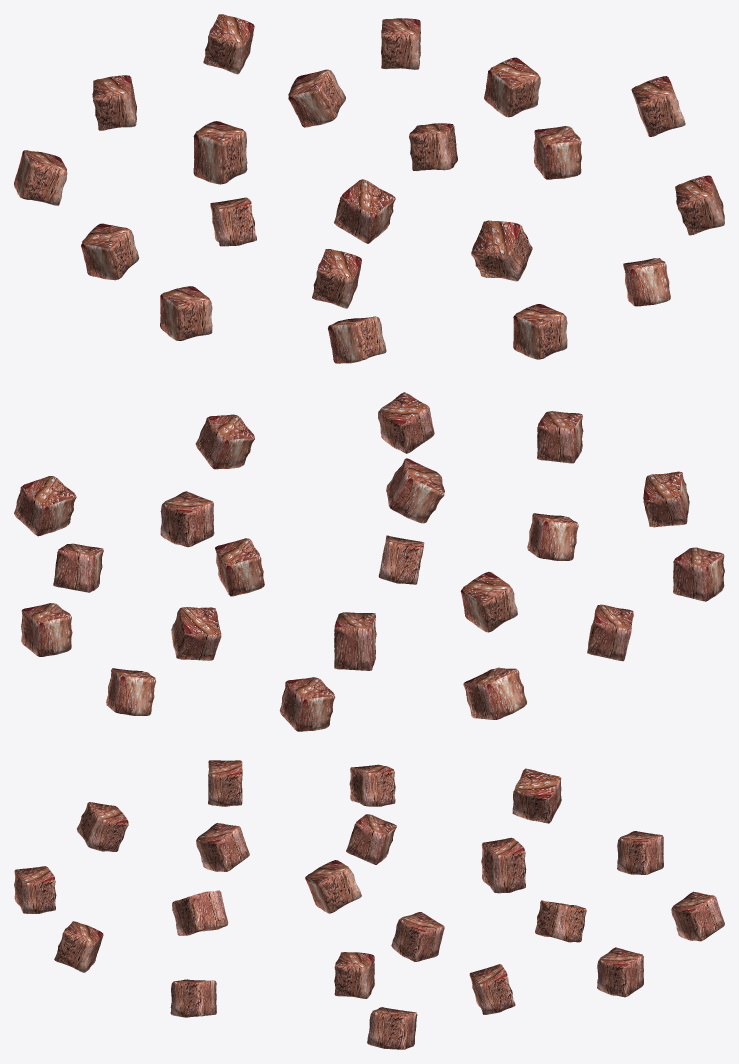
File: meat_topping.fbx
3 views of the same model, one above another, from view 1: azimuth 30°, elevation 25°; view 2: azimuth 150°, elevation 25°; view 3: azimuth 270°, elevation 25° (orthographic). The views are drawn at different scales.
Visible parts, largest first — view 1: meat.005, meat.006, meat.016, meat.014, meat.010, meat.018, meat.001, meat.019, meat.013, meat.008, meat.002, meat.012 (+8 smaller); view 2: meat.009, meat.006, meat.013, meat.007, meat.004, meat.008, meat.011, meat, meat.005, meat.001, meat.019, meat.015 (+8 smaller); view 3: meat.005, meat.013, meat.016, meat.017, meat.003, meat.012, meat.006, meat.015, meat.002, meat, meat.009, meat.018 (+8 smaller).
Part boxes in pixels (x1,y1,x2,y2): meat.005: (193, 121, 247, 184); meat.006: (471, 220, 532, 281); meat.016: (334, 179, 395, 243); meat.014: (484, 57, 540, 117); meat.010: (81, 223, 139, 280); meat.018: (513, 304, 567, 359); meat.001: (160, 286, 212, 340); meat.019: (288, 69, 345, 127); meat.013: (14, 150, 67, 205); meat.008: (533, 126, 581, 179); meat.002: (328, 316, 386, 363); meat.012: (203, 14, 254, 74); meat.009: (14, 476, 76, 536); meat.006: (386, 458, 444, 523); meat.013: (463, 667, 527, 719); meat.007: (195, 414, 254, 469); meat.004: (378, 392, 434, 453); meat.008: (160, 491, 214, 547); meat.011: (460, 572, 517, 632); meat: (279, 677, 335, 731); meat.005: (334, 612, 376, 670); meat.001: (673, 547, 724, 601); meat.019: (171, 607, 221, 660); meat.015: (21, 603, 72, 656); meat.005: (481, 837, 526, 893); meat.013: (512, 768, 561, 823); meat.016: (305, 860, 361, 913); meat.017: (391, 912, 444, 961); meat.003: (196, 823, 249, 871); meat.012: (671, 891, 724, 941); meat.006: (172, 890, 228, 935); meat.015: (597, 947, 643, 997); meat.002: (77, 802, 128, 851); meat: (617, 831, 663, 874); meat.009: (367, 1007, 417, 1049); meat.018: (14, 866, 56, 913).
Size of the model in its own units: 48.58 by 4.01 by 55.06.
Materials: 20 (20 with a texture image).
